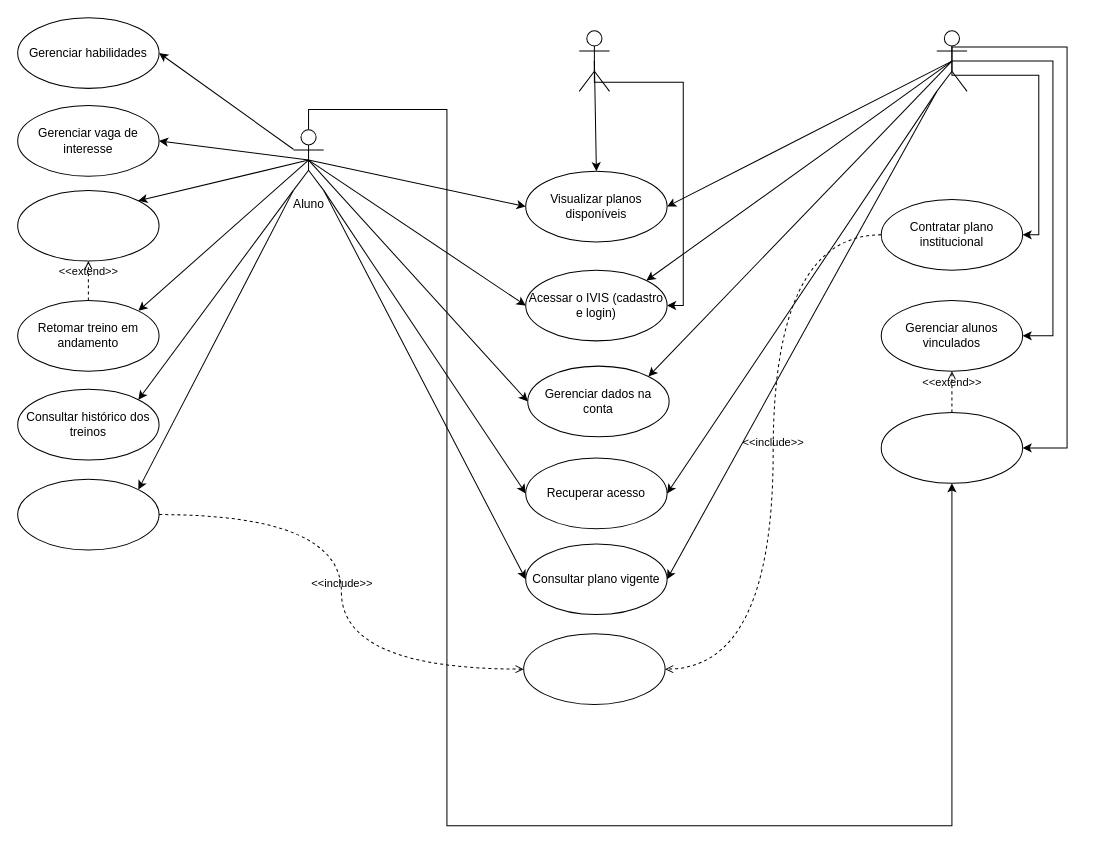
Image size: 1093x851. Some labels were removed from this diagram. Each missing label, with the box of its shape:
Contratar plano individual: (17, 478, 159, 550)
Efetuar pagamento simulado: (523, 633, 665, 704)
Instituição de Ensino: (936, 30, 967, 91)
Realizar treino e receber feedback: (17, 189, 159, 261)
Vincular aluno com conta existente: (880, 412, 1023, 483)
Visitante: (578, 30, 610, 91)
